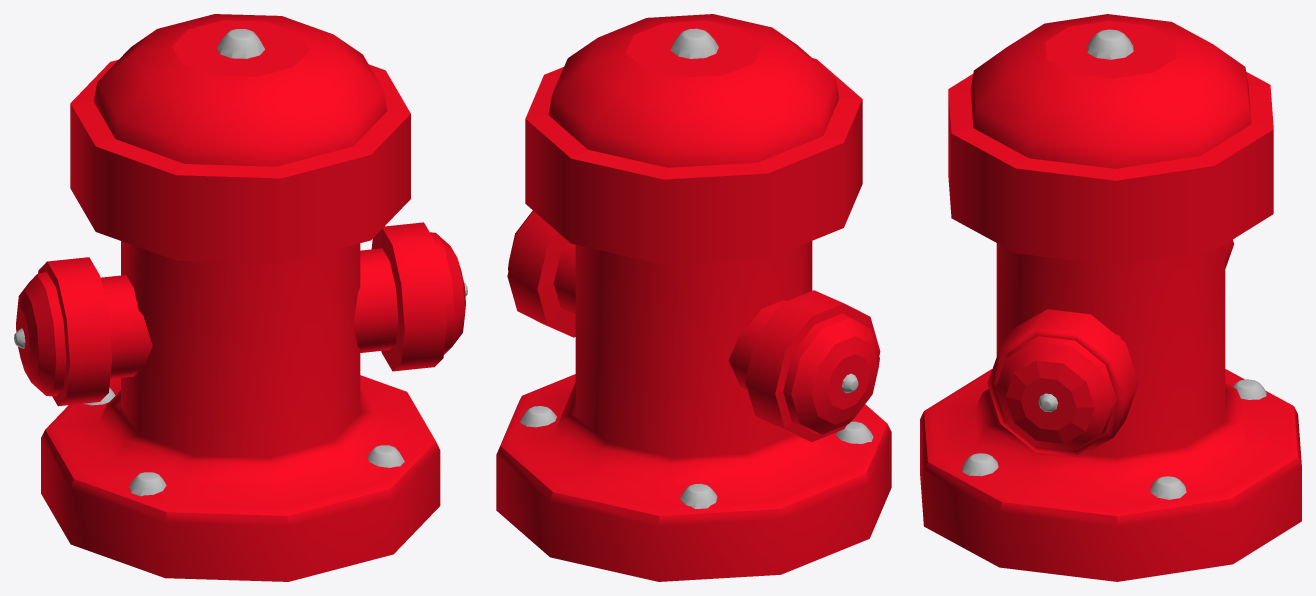
Rendered from SM_Fire_Hidrant.fbx.
3 renders of one model, left to right at view 1: azimuth 30°, elevation 25°; view 2: azimuth 150°, elevation 25°; view 3: azimuth 270°, elevation 25°, orthographic.
Parts seen in each view (by area): view 1: SM_Fire_Hidrant; view 2: SM_Fire_Hidrant; view 3: SM_Fire_Hidrant.
Boxes of the visible parts, left/top/right/bottom form: SM_Fire_Hidrant: left=14, top=14, right=467, bottom=581; SM_Fire_Hidrant: left=496, top=14, right=891, bottom=581; SM_Fire_Hidrant: left=920, top=14, right=1301, bottom=581.
Size of the model in its own units: 58.95 by 67.63 by 50.45.
